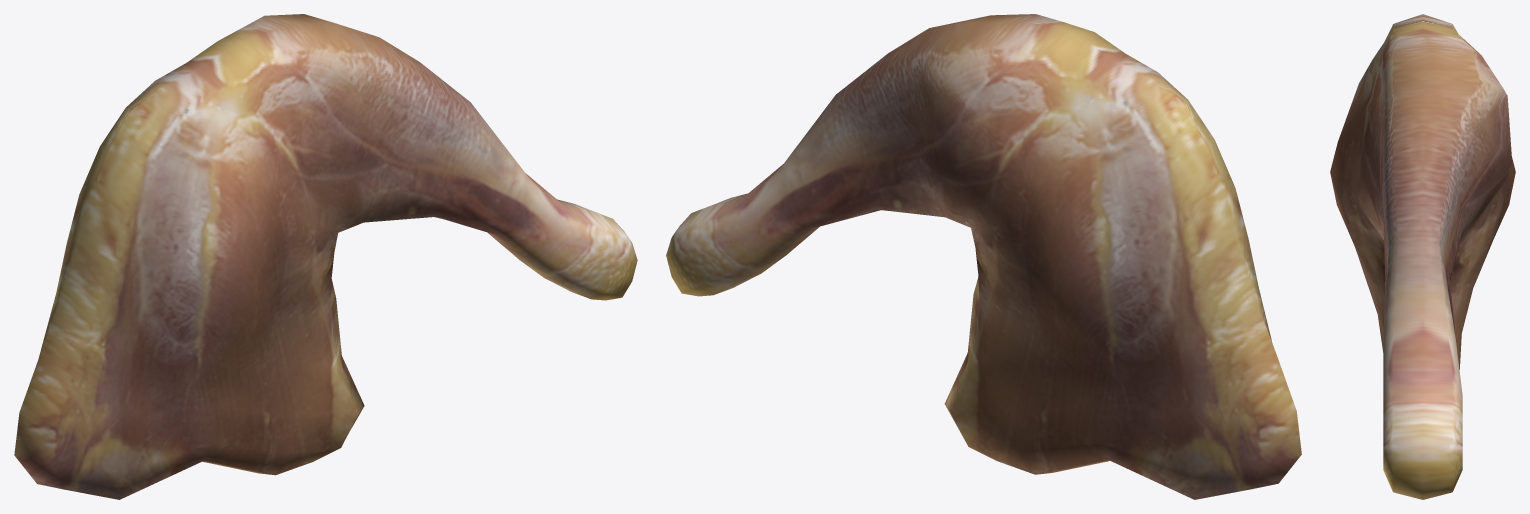
Rendered from giblets_1.fbx.
The picture shows the model from 3 angles, left to right: view 1: azimuth 30°, elevation 25°; view 2: azimuth 150°, elevation 25°; view 3: azimuth 270°, elevation 25°; orthographic projection. The views are drawn at different scales.
Visible parts, largest first — view 1: giblets_01; view 2: giblets_01; view 3: giblets_01.
Boxes of the visible parts, left/top/right/bottom form: giblets_01: left=14, top=14, right=637, bottom=499; giblets_01: left=666, top=14, right=1301, bottom=499; giblets_01: left=1330, top=14, right=1515, bottom=499.
Bounding box in the file's own units: 24.95 × 17.1 × 7.16.
